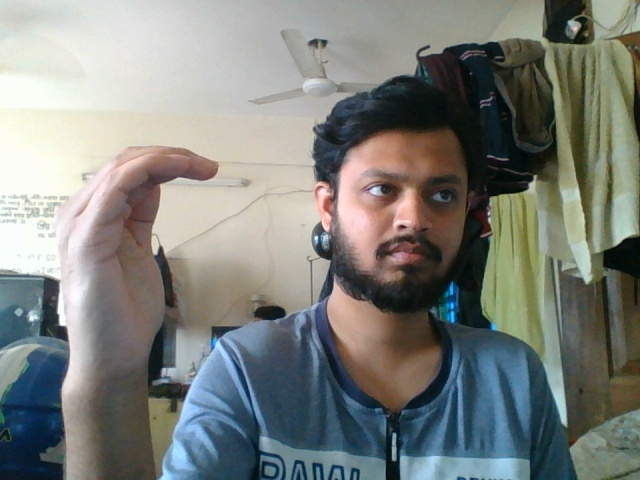ga: (51, 139, 224, 425)
